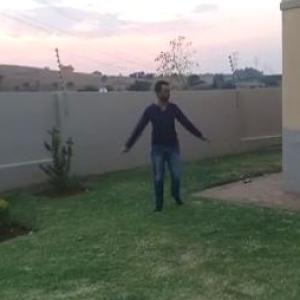land: (110, 84, 218, 231)
